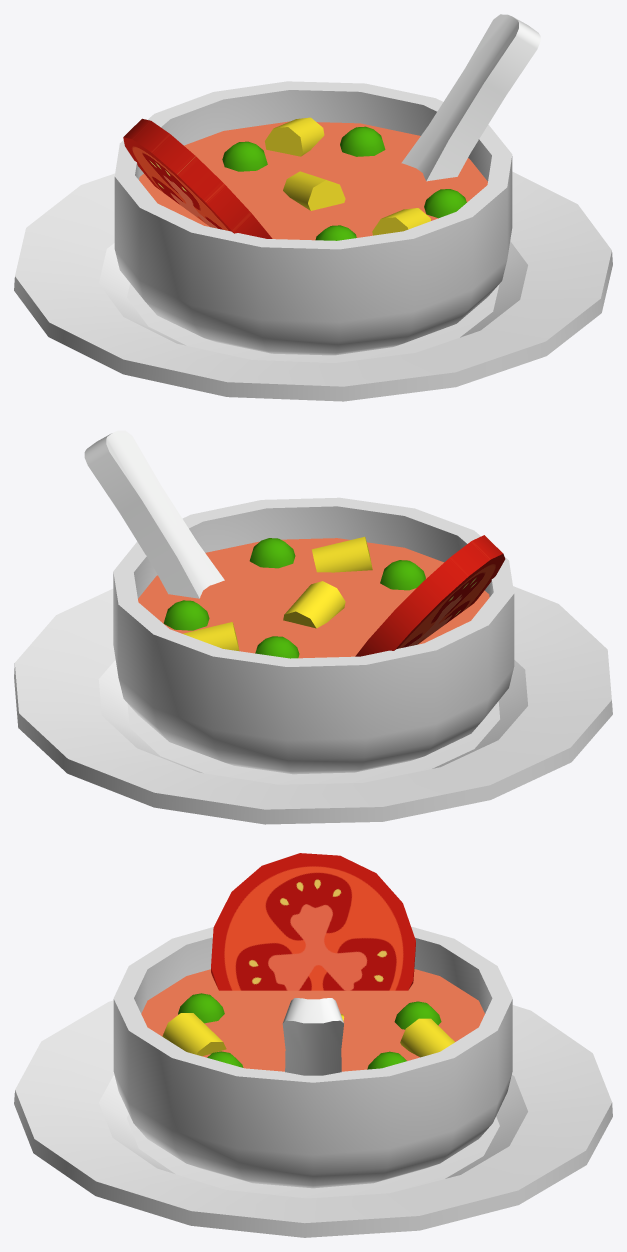
File: Soup_03_Tomato.fbx
3 views of the same model, one above another, from view 1: azimuth 30°, elevation 25°; view 2: azimuth 150°, elevation 25°; view 3: azimuth 270°, elevation 25° (orthographic).
Visible parts, largest first — view 1: Soup_03_Tomato; view 2: Soup_03_Tomato; view 3: Soup_03_Tomato.
Part boxes in pixels (x1,y1,x2,y2): Soup_03_Tomato: (14, 14, 612, 401); Soup_03_Tomato: (14, 430, 612, 824); Soup_03_Tomato: (14, 853, 612, 1237).
Bounding box in the file's own units: 75.76 × 33.05 × 75.76.
